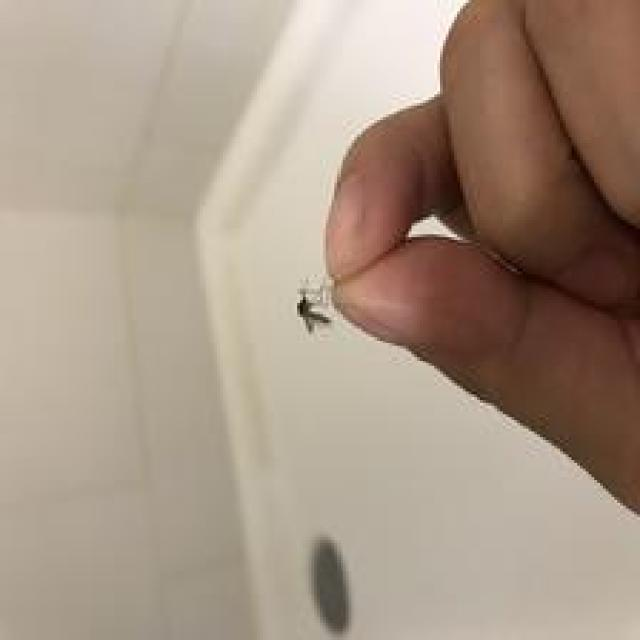Culex: (294, 273, 337, 336)
